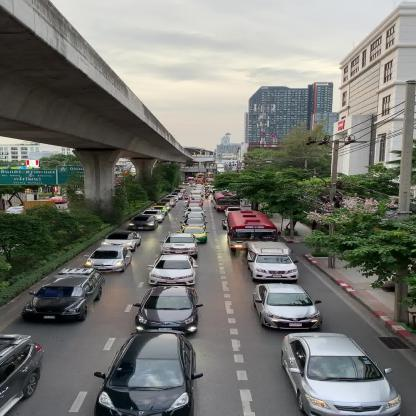bus: (227, 211, 278, 254)
car: (282, 333, 402, 416), (91, 332, 204, 415), (21, 268, 105, 324), (253, 283, 325, 331), (135, 286, 205, 335), (246, 242, 298, 281), (148, 254, 198, 287), (85, 245, 132, 274), (160, 232, 200, 256), (101, 232, 140, 252), (178, 227, 209, 244), (128, 214, 156, 230)
